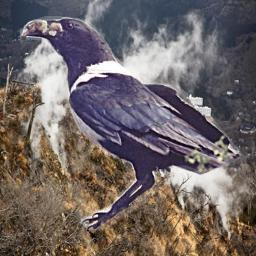Crow: (20, 16, 248, 230)
